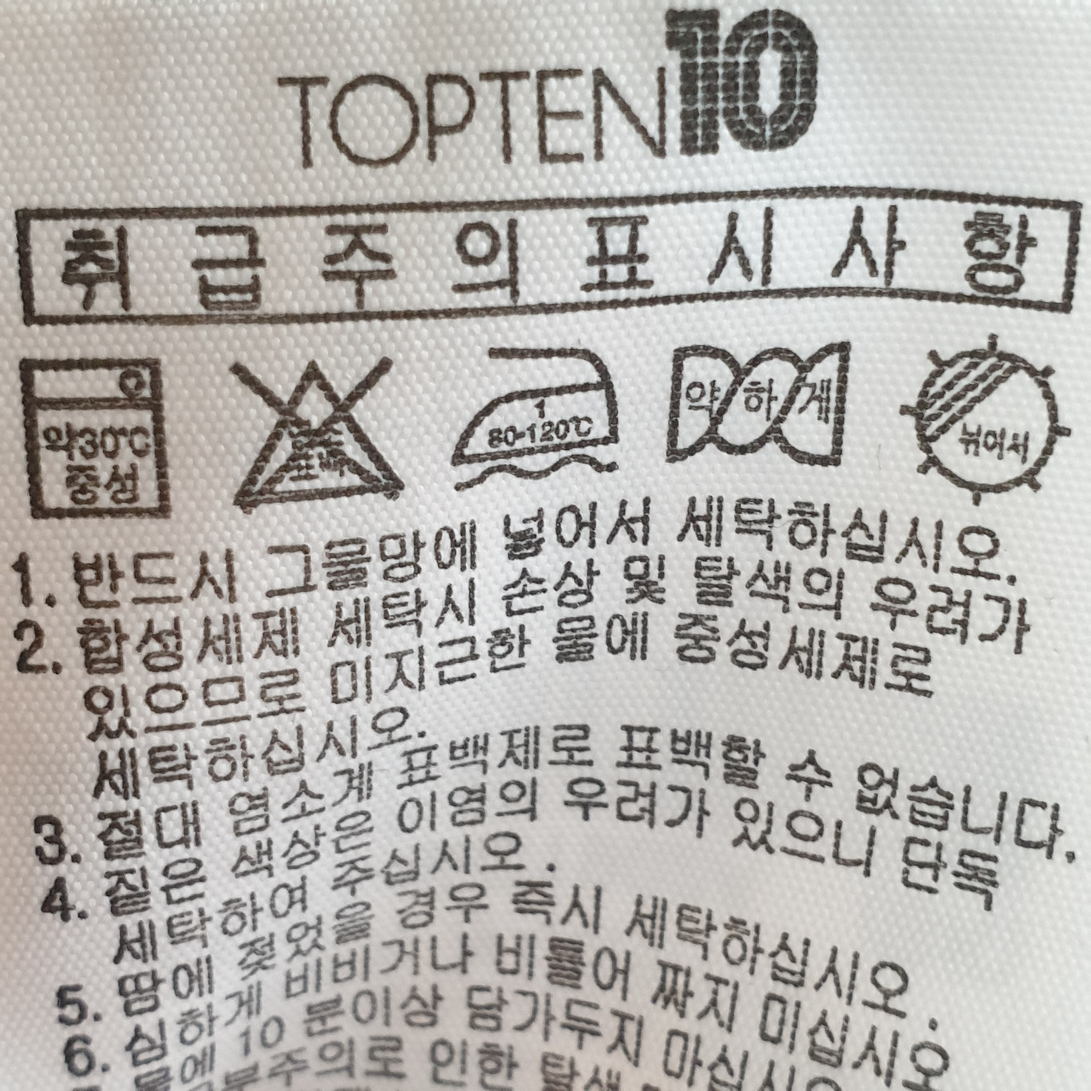KR_flat_dry_in_shade: (904, 327, 1063, 502)
KR_gentle_wring: (659, 334, 856, 479)
KR_iron_low_temp_with_cloth: (437, 320, 630, 488)
KR_no_chlorine_bleach: (224, 350, 408, 518)
KR_wash_warm_30_neutral: (9, 347, 180, 525)
